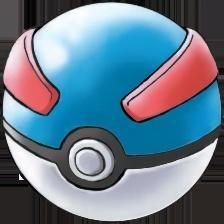Sports-Ball: (4, 3, 224, 224)
